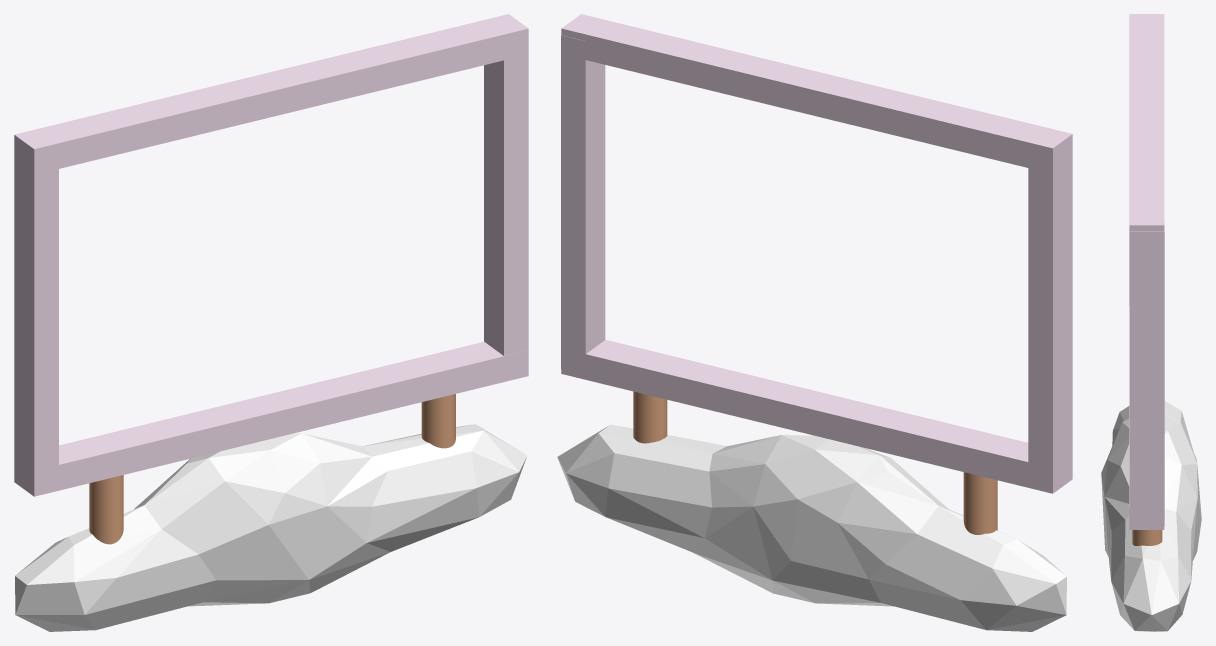
3 renders of one model, left to right at view 1: azimuth 30°, elevation 25°; view 2: azimuth 150°, elevation 25°; view 3: azimuth 270°, elevation 25°, orthographic. The views are drawn at different scales.
Visible parts, largest first — view 1: Box (×4), Cloud, Cylinder (×2); view 2: Box (×4), Cloud, Cylinder (×2); view 3: Box (×3), Cloud, Cylinder.
Boxes of the visible parts, left/top/right/bottom form: Box (×4): left=14, top=14, right=528, bottom=496; Cloud: left=15, top=424, right=526, bottom=631; Cylinder (×2): left=89, top=394, right=455, bottom=544; Box (×4): left=561, top=14, right=1072, bottom=493; Cloud: left=557, top=424, right=1066, bottom=631; Cylinder (×2): left=633, top=391, right=997, bottom=534; Box (×3): left=1129, top=14, right=1164, bottom=529; Cloud: left=1101, top=401, right=1201, bottom=631; Cylinder: left=1132, top=530, right=1162, bottom=545.
Size of the model in its own units: 10.36 by 9.95 by 2.01.
